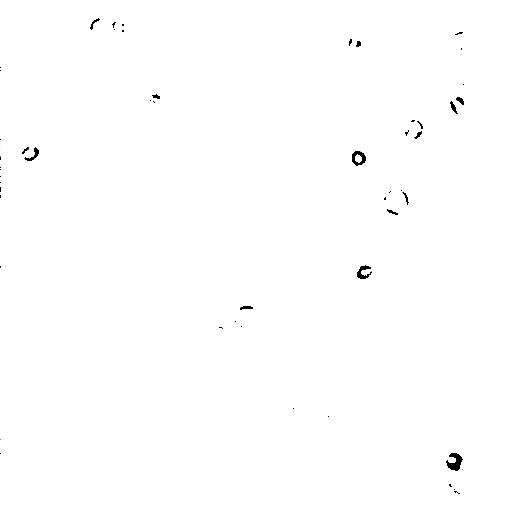micro-algae: (267, 392, 307, 426), (55, 0, 91, 29), (379, 185, 411, 217), (445, 465, 474, 496), (234, 305, 261, 329), (447, 29, 475, 52), (18, 141, 43, 163), (351, 260, 375, 281), (403, 118, 423, 143), (456, 79, 478, 101), (444, 451, 465, 472), (344, 33, 366, 53), (348, 148, 367, 167), (88, 16, 107, 33), (449, 98, 468, 115), (110, 18, 127, 35)
